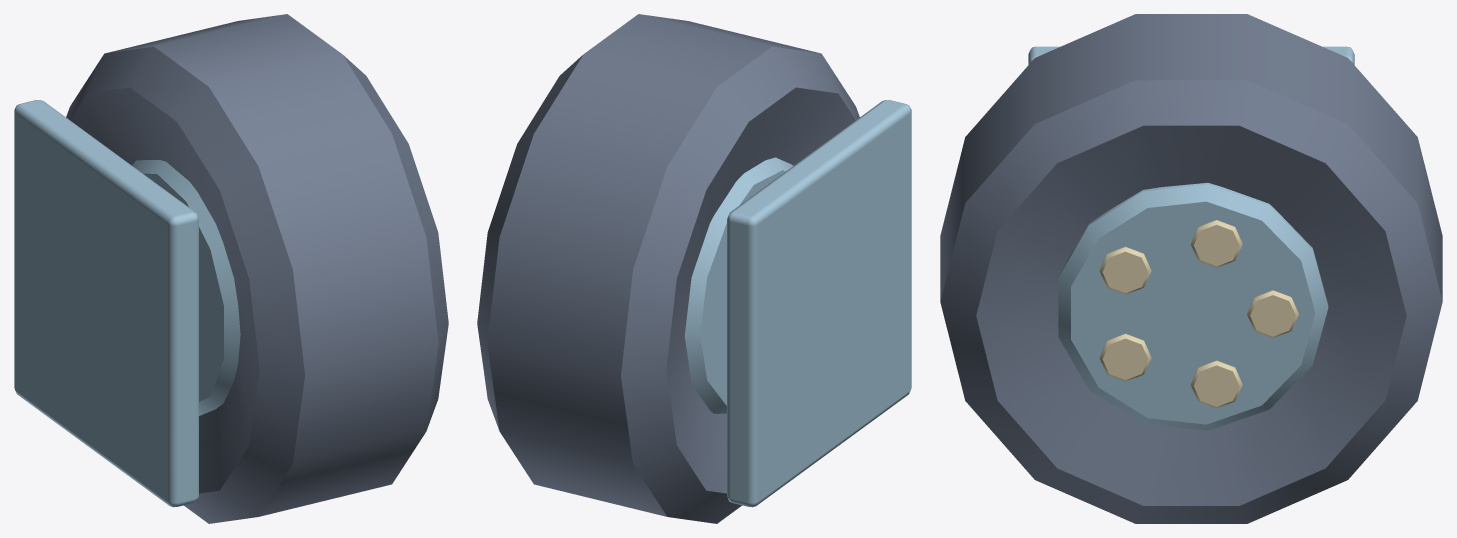
Rendered from R4M_WheelM_Side_Offroad.glb.
The picture shows the model from 3 angles, left to right: view 1: azimuth 30°, elevation 25°; view 2: azimuth 150°, elevation 25°; view 3: azimuth 270°, elevation 25°; orthographic projection.
Parts seen in each view (by area): view 1: R4M_WheelM_Side_Offroad_Rotor, R4M_WheelM_Side_Offroad_Mount; view 2: R4M_WheelM_Side_Offroad_Rotor, R4M_WheelM_Side_Offroad_Mount; view 3: R4M_WheelM_Side_Offroad_Rotor.
Part boxes in pixels (<box>): R4M_WheelM_Side_Offroad_Rotor: <box>66,14,448,523</box>; R4M_WheelM_Side_Offroad_Mount: <box>14,100,198,507</box>; R4M_WheelM_Side_Offroad_Rotor: <box>477,14,859,523</box>; R4M_WheelM_Side_Offroad_Mount: <box>727,100,911,507</box>; R4M_WheelM_Side_Offroad_Rotor: <box>940,14,1442,523</box>.
Size of the model in its own units: 0.452 by 0.7507 by 0.77.
